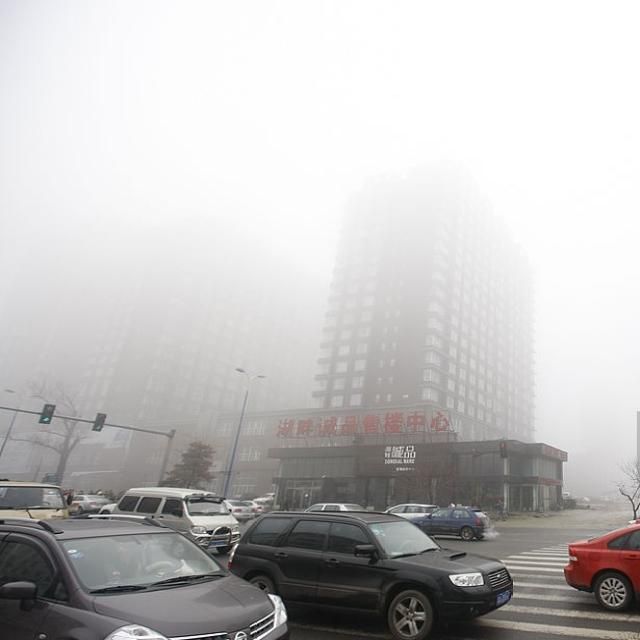car: (228, 507, 516, 636), (0, 521, 289, 639), (107, 487, 240, 555), (563, 519, 639, 612), (411, 507, 489, 540), (69, 495, 112, 515), (227, 497, 267, 518)
